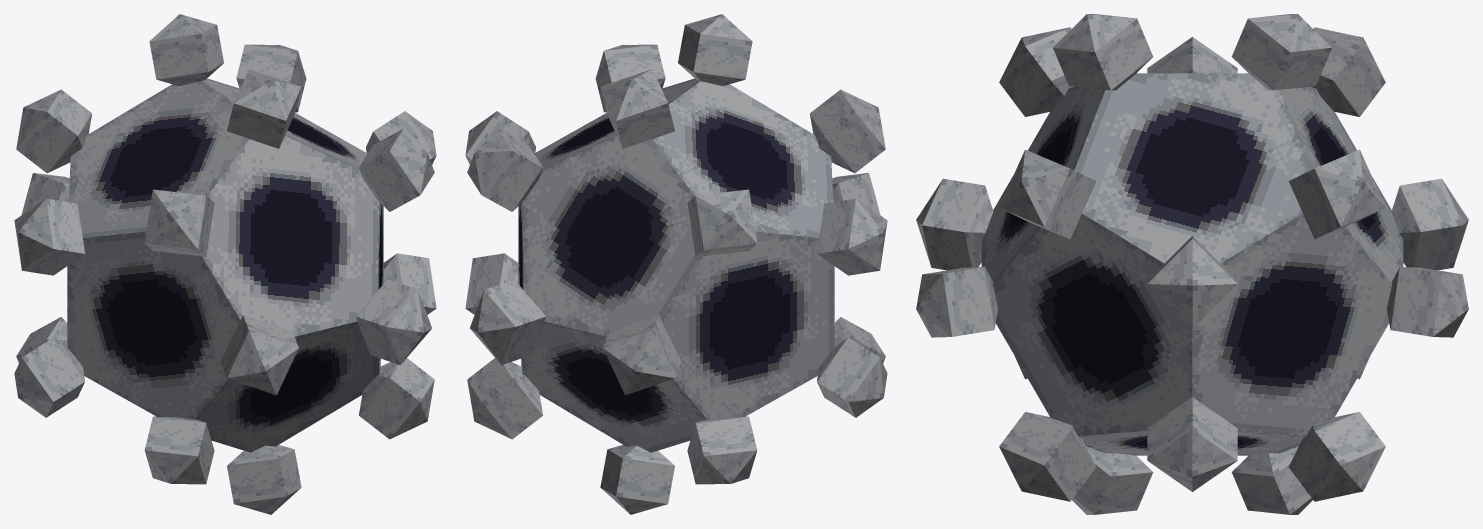
File: Dodecahedron.fbx
3 renders of one model, left to right at view 1: azimuth 30°, elevation 25°; view 2: azimuth 150°, elevation 25°; view 3: azimuth 270°, elevation 25°, orthographic. The views are drawn at different scales.
Parts seen in each view (by area): view 1: Dodecahedron; view 2: Dodecahedron; view 3: Dodecahedron.
Part boxes in pixels (x1,y1,x2,y2): Dodecahedron: [14, 14, 436, 514]; Dodecahedron: [465, 14, 887, 514]; Dodecahedron: [916, 14, 1468, 514].
Bounding box in the file's own units: 245 × 245 × 245.
